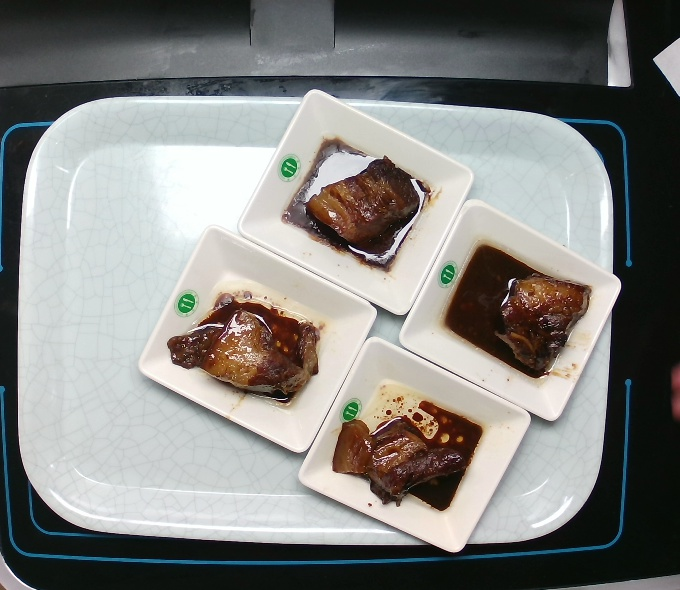wcq-DaKuaiRou: (436, 229, 594, 388), (275, 121, 433, 280), (155, 275, 325, 421), (326, 375, 490, 517)
